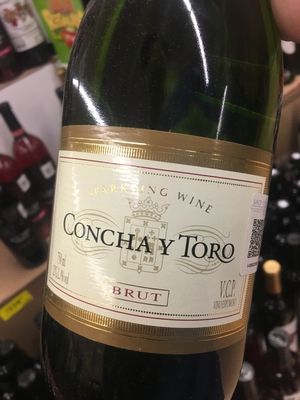brut: (37, 18, 271, 400)
